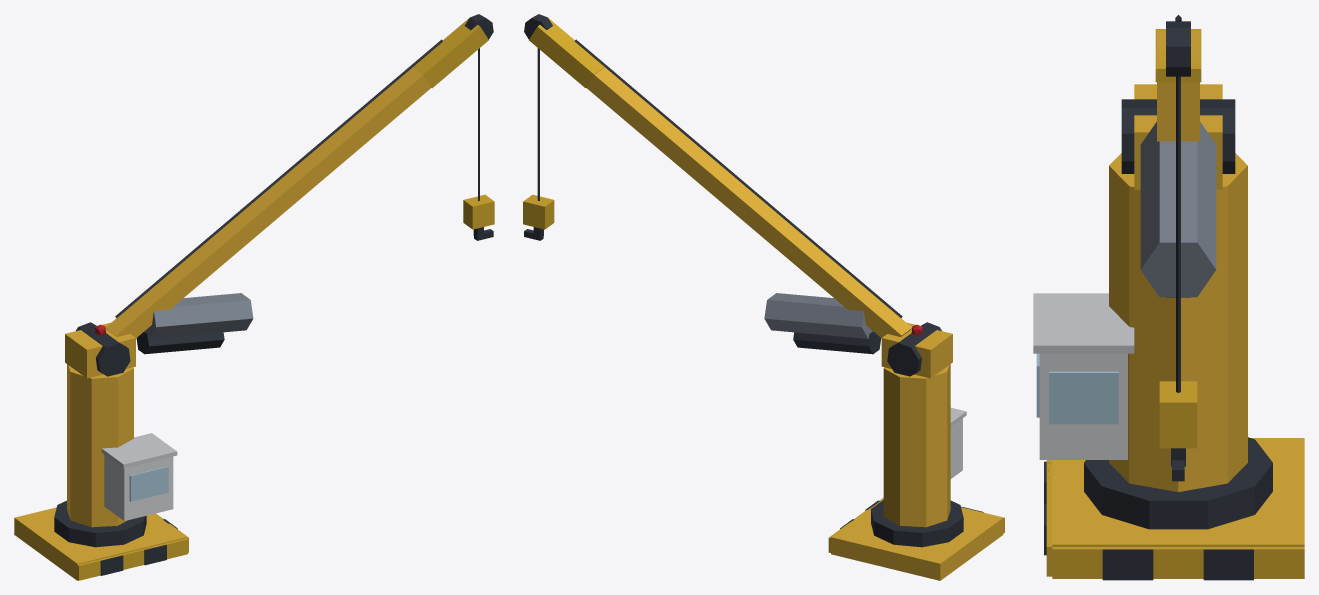
File: coaster_crane.glb
3 views of the same model, side by side, from view 1: azimuth 30°, elevation 25°; view 2: azimuth 150°, elevation 25°; view 3: azimuth 270°, elevation 25° (orthographic). The views are drawn at different scales.
Parts seen in each view (by area): view 1: base, boom, hook; view 2: base, boom, hook; view 3: base, boom, hook.
Part boxes in pixels (box(x1,y1,x2,y2)): base: box(14, 322, 188, 580); boom: box(76, 14, 493, 376); hook: box(463, 48, 494, 240); base: box(828, 322, 1004, 580); boom: box(524, 14, 941, 376); hook: box(523, 48, 554, 240); base: box(1033, 84, 1304, 580); boom: box(1121, 15, 1235, 297); hook: box(1159, 76, 1197, 481).
Size of the model in its own units: 8.17 by 7.61 by 2.15.
